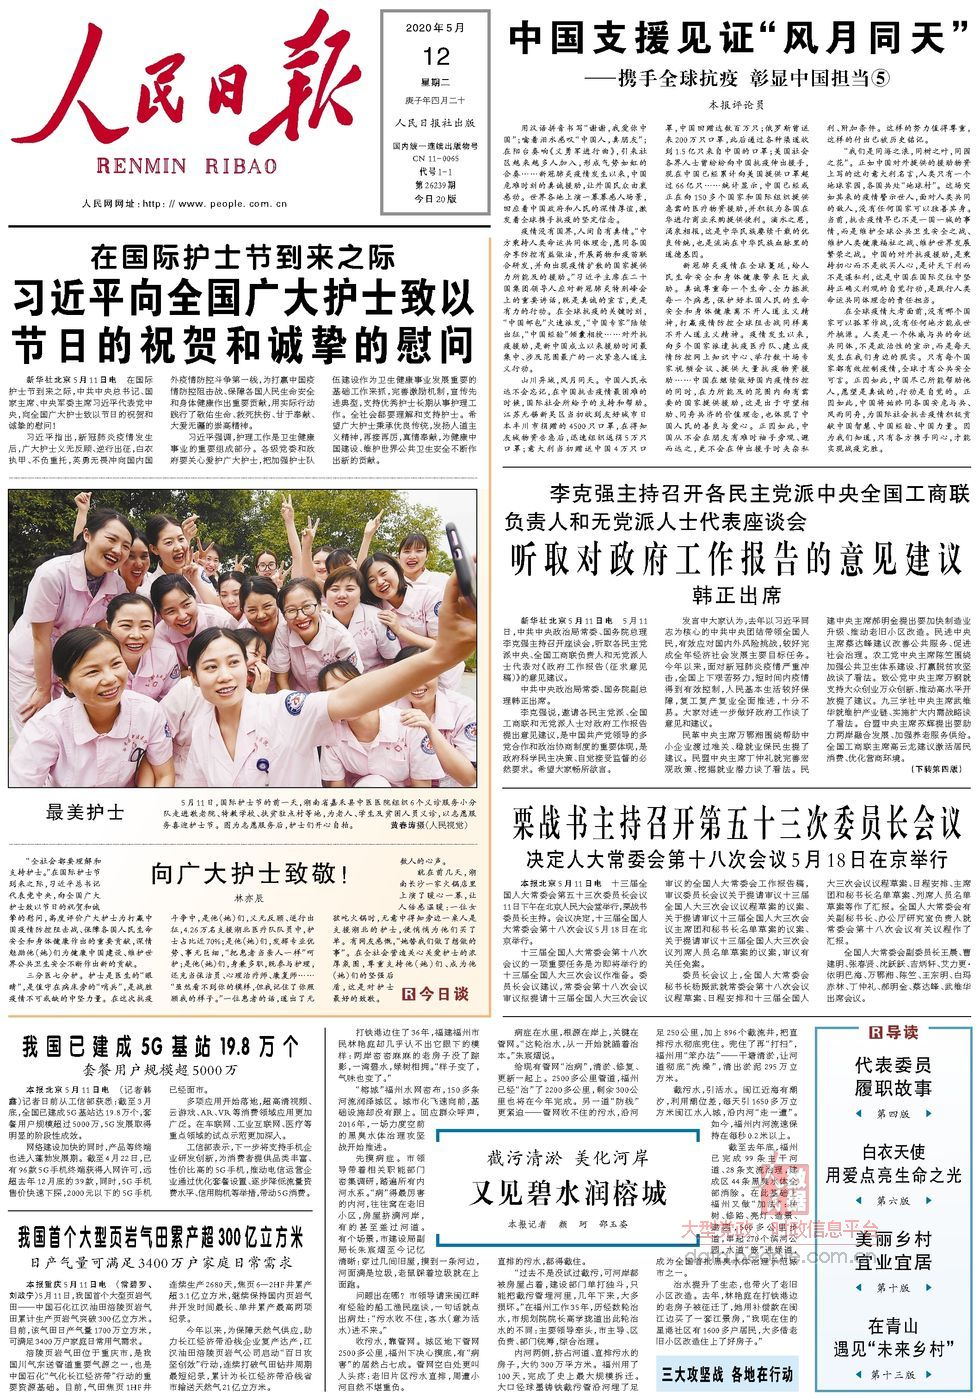pic: (3, 485, 484, 795)
